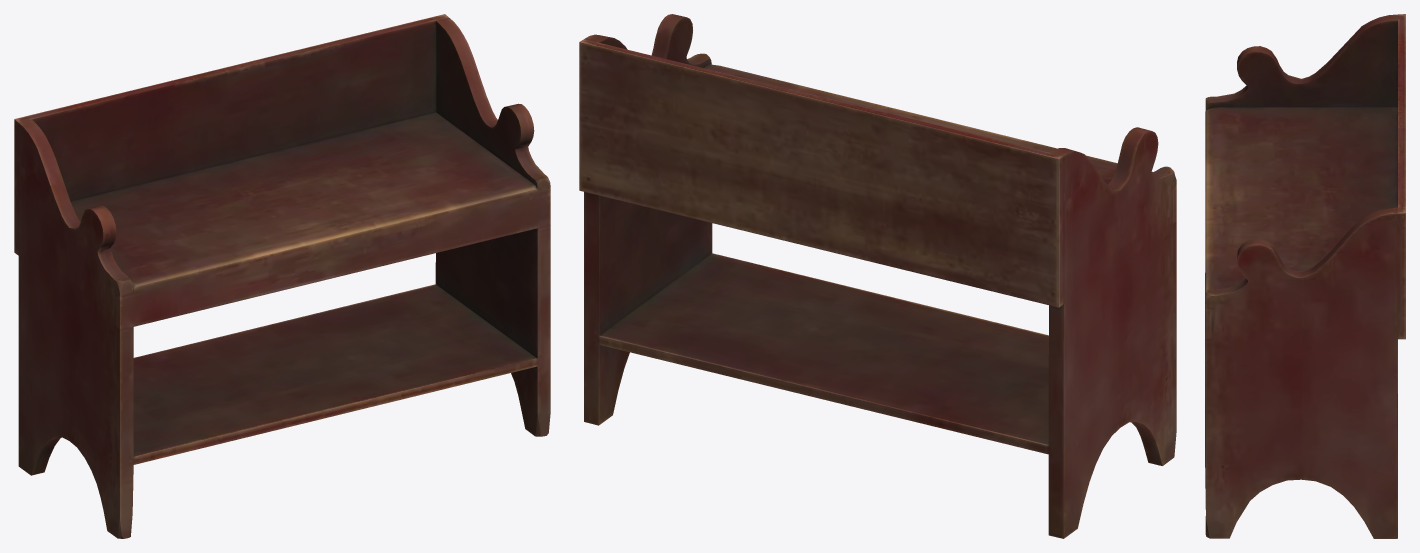
File: bench.glb
3 views of the same model, side by side, from view 1: azimuth 30°, elevation 25°; view 2: azimuth 150°, elevation 25°; view 3: azimuth 270°, elevation 25° (orthographic). The views are drawn at different scales.
Visible parts, largest first — view 1: painted_wooden_bench; view 2: painted_wooden_bench; view 3: painted_wooden_bench.
Boxes of the visible parts, bbox=[...] form: painted_wooden_bench: bbox=[14, 14, 550, 538]; painted_wooden_bench: bbox=[579, 14, 1176, 538]; painted_wooden_bench: bbox=[1205, 14, 1405, 538].
Bounding box in the file's own units: 1.16 × 0.8893 × 0.4965.
1 material, 1 textured.
